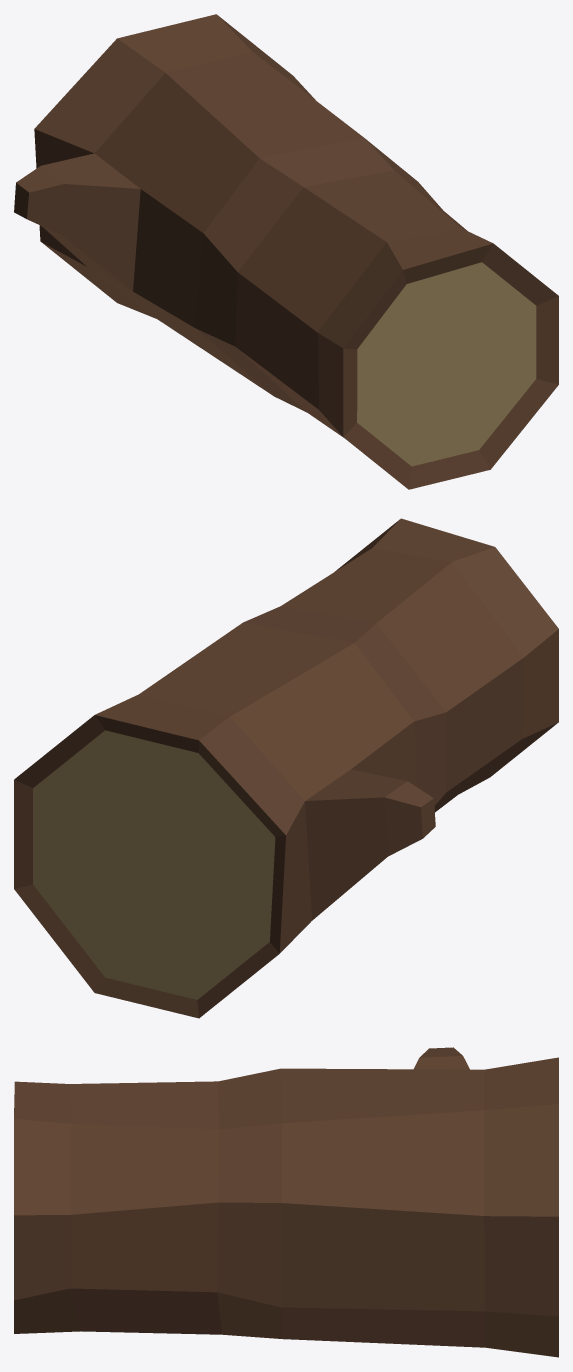
The model's file is WoodenLog2.fbx.
3 views of the same model, one above another, from view 1: azimuth 30°, elevation 25°; view 2: azimuth 150°, elevation 25°; view 3: azimuth 270°, elevation 25° (orthographic). The views are drawn at different scales.
Visible parts, largest first — view 1: Wooden Log 1; view 2: Wooden Log 1; view 3: Wooden Log 1.
Part boxes in pixels (x1,y1,x2,y2): Wooden Log 1: (14,14,558,489); Wooden Log 1: (14,518,558,1018); Wooden Log 1: (14,1047,558,1357).
Size of the model in its own units: 271 by 205 by 400.
